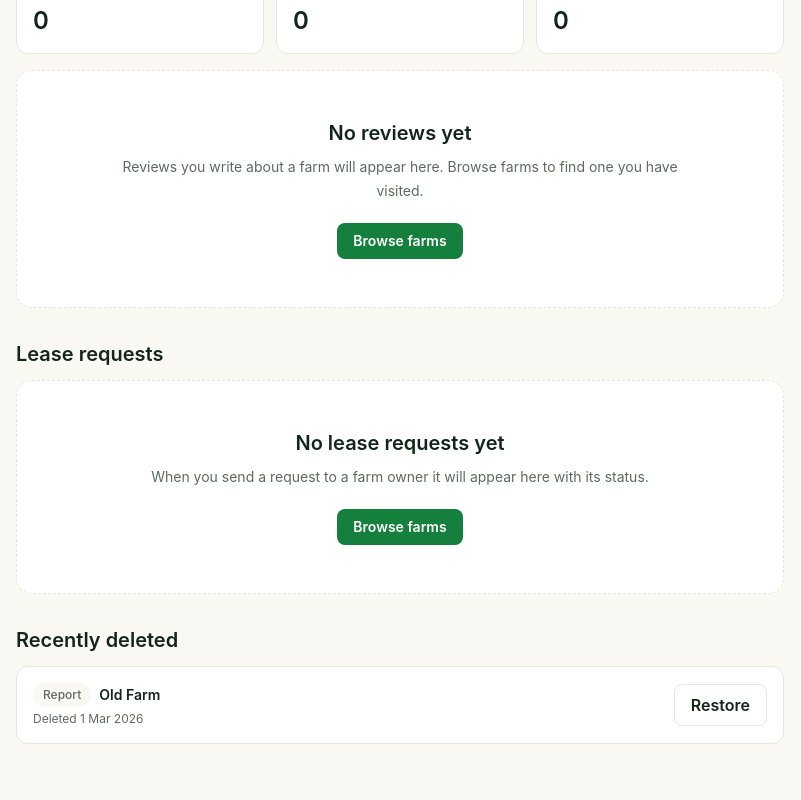
Test case: Account › explains that reports cannot be restored under the current permissions
(page scrolled)
Click the button "Restore" at point(720, 705), box [674,684,767,726]
(page scrolled)
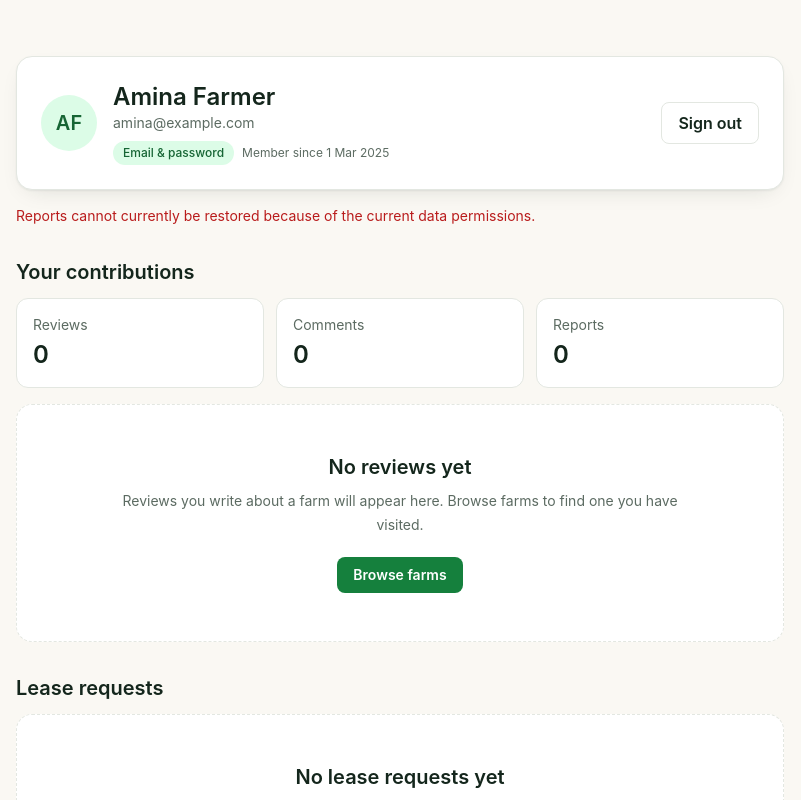
expect the message reads "Reports cannot currently be restored because of the current data permissions.": met, box [16,207,535,224]
